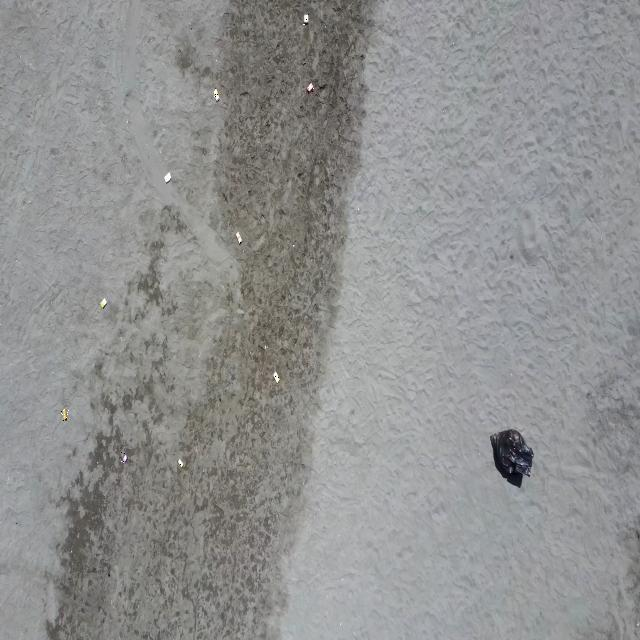Garbage: (489, 428, 532, 475), (60, 407, 68, 420), (120, 451, 128, 463), (163, 172, 171, 183), (99, 298, 107, 308), (212, 88, 218, 100), (176, 457, 183, 467), (273, 371, 279, 382), (306, 81, 312, 92), (236, 232, 240, 243), (303, 13, 307, 24), (263, 344, 267, 348)
